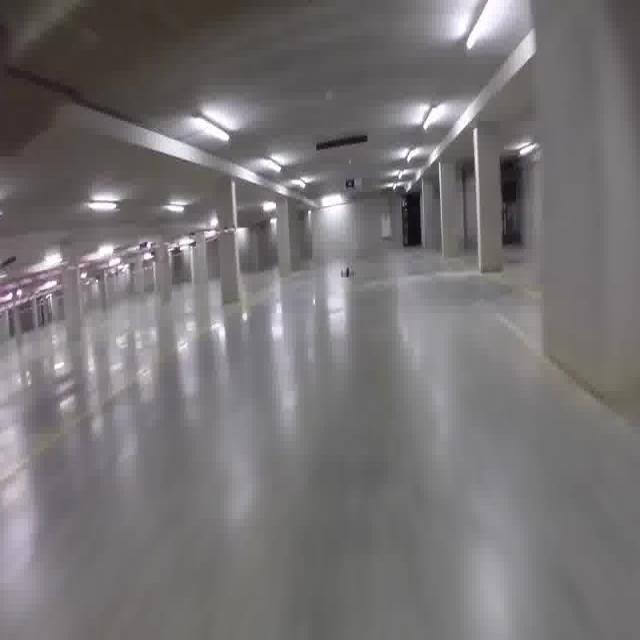drones: (337, 263, 359, 282)
